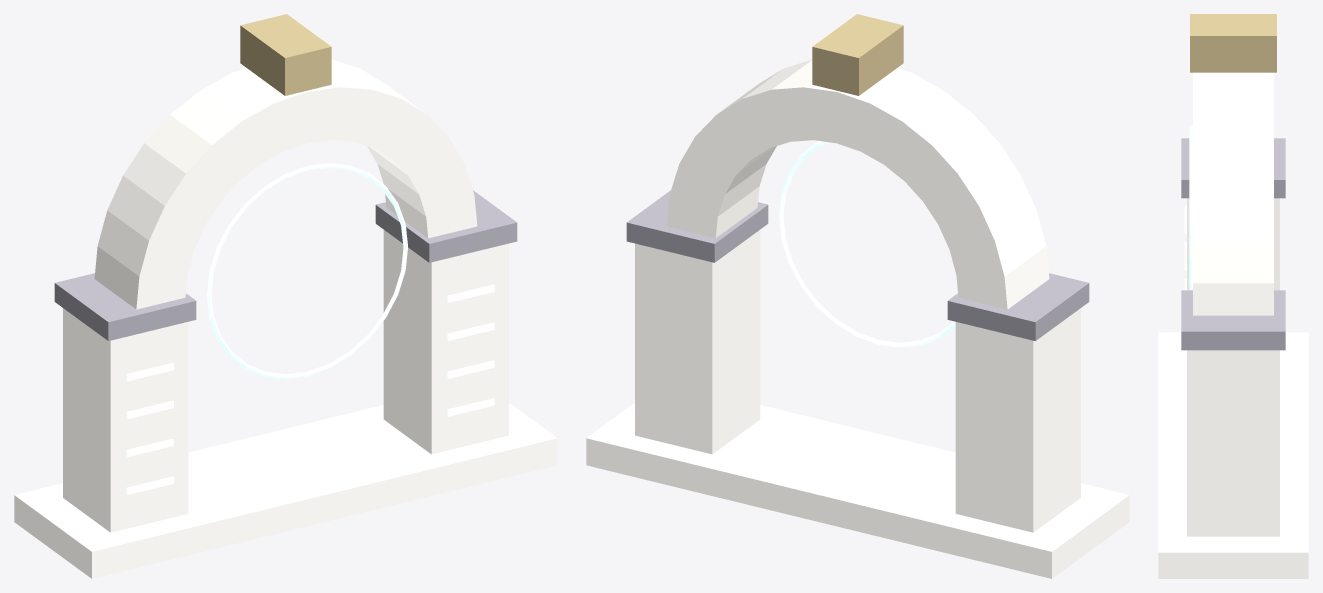
Rendered from prop_white_arch_gate.glb.
The picture shows the model from 3 angles, left to right: view 1: azimuth 30°, elevation 25°; view 2: azimuth 150°, elevation 25°; view 3: azimuth 270°, elevation 25°; orthographic projection. The views are drawn at different scales.
Parts seen in each view (by area): view 1: prop_white_arch_gate_pearl, prop_white_arch_gate_shadow, prop_white_arch_gate_jade, prop_white_arch_gate_gold; view 2: prop_white_arch_gate_pearl, prop_white_arch_gate_shadow, prop_white_arch_gate_gold, prop_white_arch_gate_jade; view 3: prop_white_arch_gate_pearl, prop_white_arch_gate_shadow, prop_white_arch_gate_gold, prop_white_arch_gate_jade.
Part boxes in pixels (x1,y1,x2,y2): prop_white_arch_gate_pearl: (14,59,557,578); prop_white_arch_gate_shadow: (54,190,517,340); prop_white_arch_gate_jade: (126,163,494,494); prop_white_arch_gate_gold: (240,14,331,95); prop_white_arch_gate_pearl: (586,59,1129,578); prop_white_arch_gate_shadow: (626,190,1089,340); prop_white_arch_gate_gold: (812,14,903,95); prop_white_arch_gate_jade: (779,141,955,347); prop_white_arch_gate_pearl: (1158,72,1308,578); prop_white_arch_gate_shadow: (1181,138,1285,350); prop_white_arch_gate_gold: (1190,14,1276,72); prop_white_arch_gate_jade: (1184,125,1192,495).
Bounding box in the file's own units: 9 × 8.45 × 2.6.
